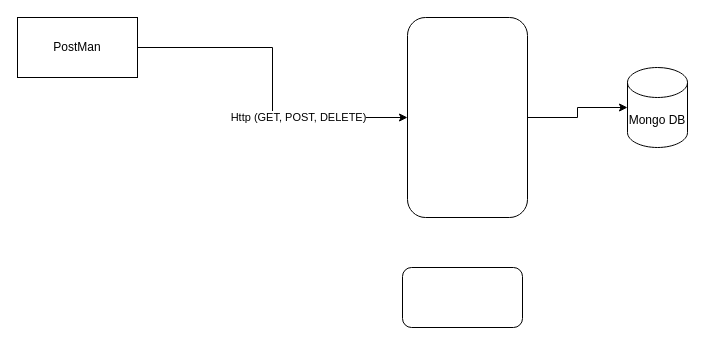
Image size: 705x345. Some labels were removed from this diagram. Here are the shapes that lost their labels. From the top down, the centre of each, then its label:
[467,117]: NodeJS Http backend
[462,297]: Workouts title caloriesBurnt
